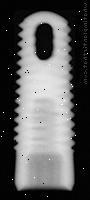Zimmer: (14, 10, 75, 191)
